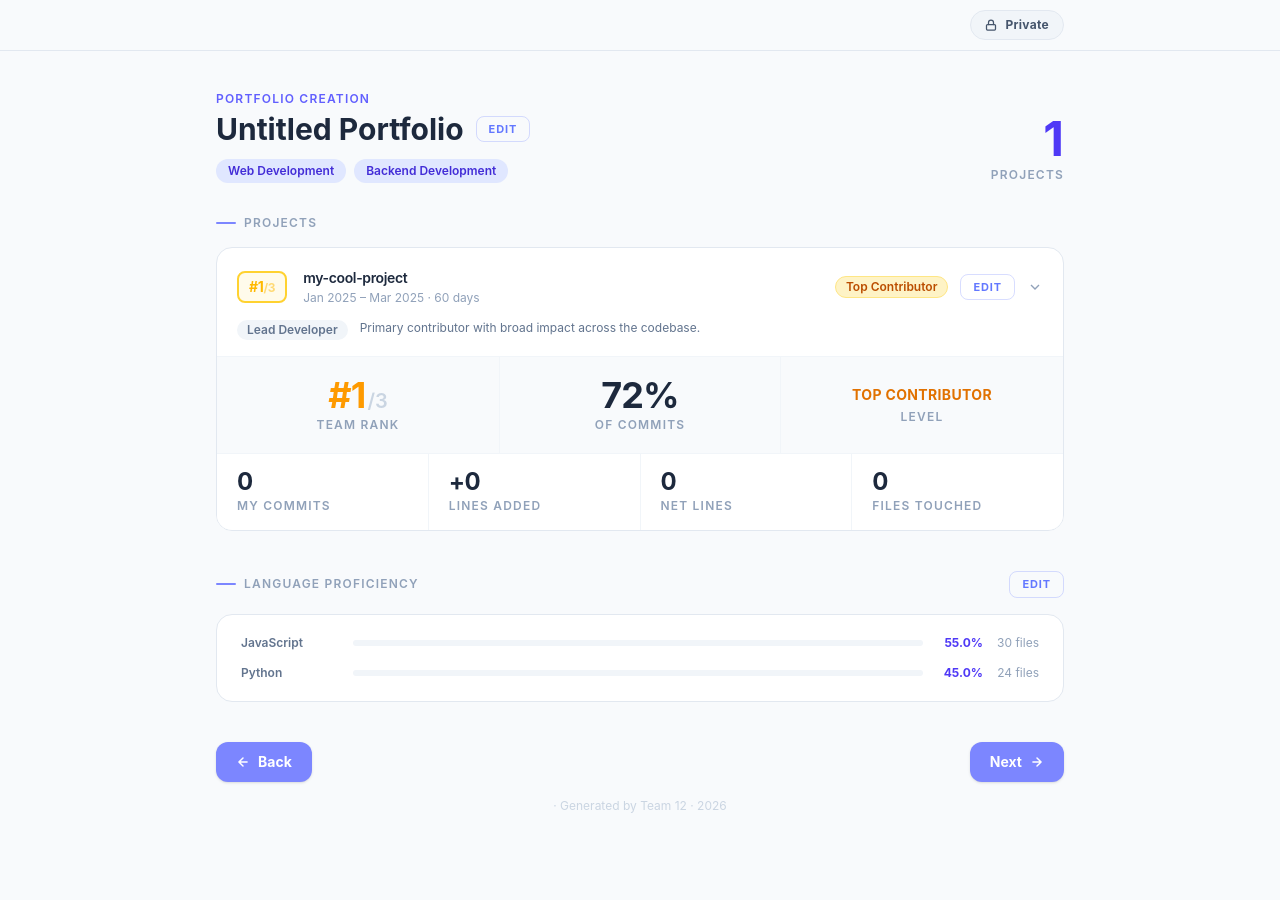
Scenario: Portfolio — edit languages › discards changes on cancel
Expected: the heading "Untitled Portfolio" is shown, x1=216 y1=111 x2=464 y2=147
Click the button with aria-label "Edit languages": click(1037, 584) x1=1009 y1=571 x2=1064 y2=598
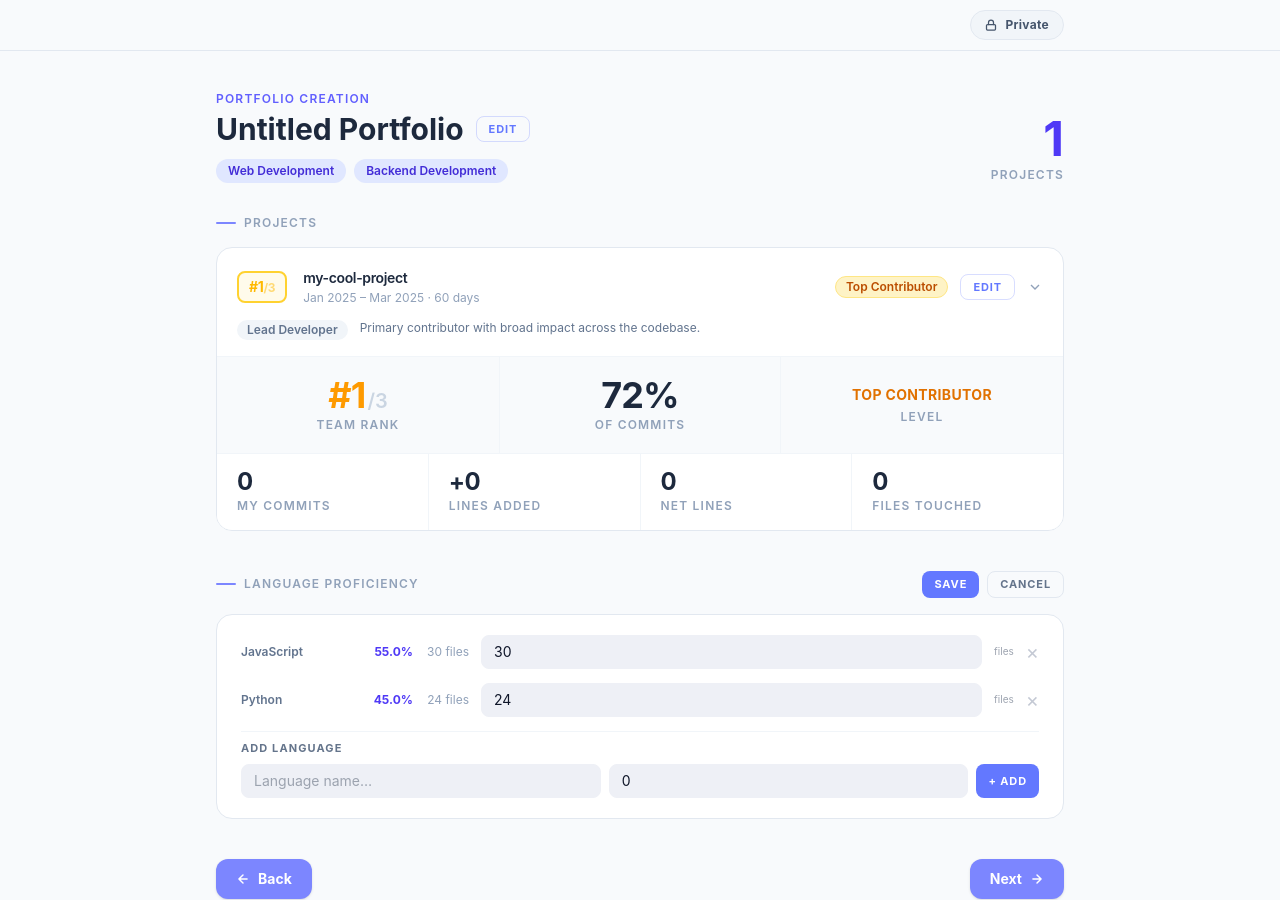
Click the button "×" in the row of "30": click(1032, 652) x1=1026 y1=642 x2=1039 y2=662
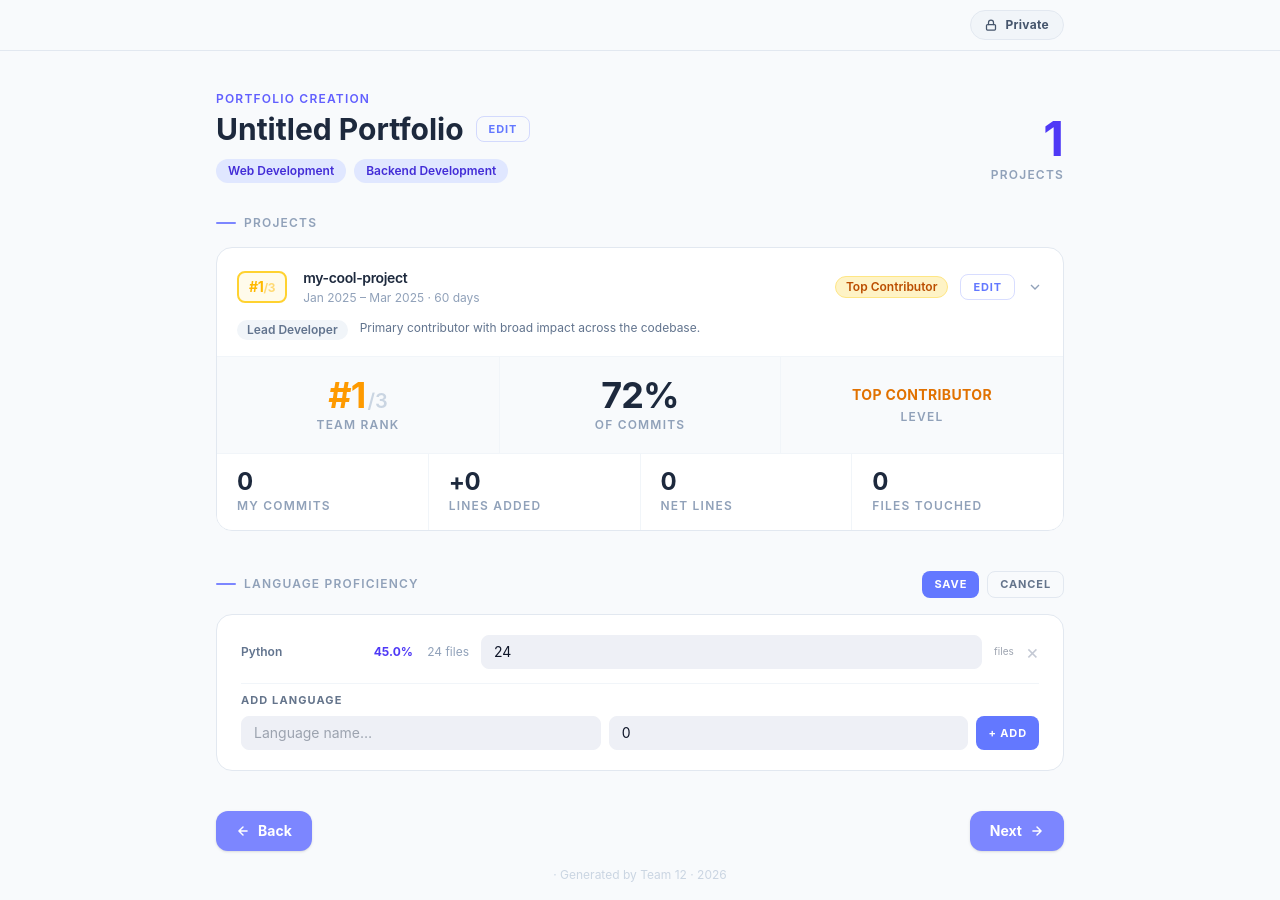
Click the button with aria-label "Cancel languages": click(1026, 584) x1=987 y1=571 x2=1064 y2=598
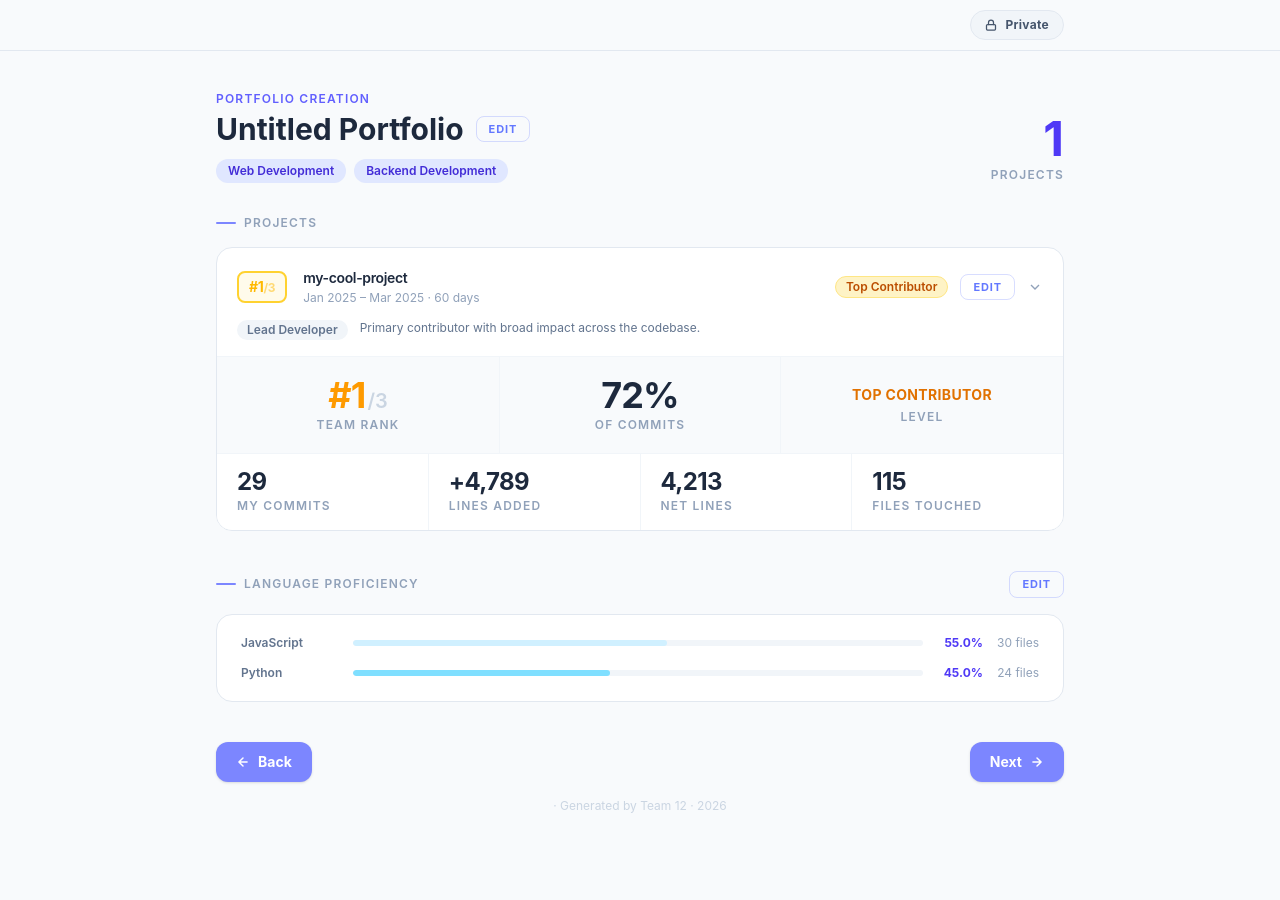
Expected: the text "JavaScript" is shown, x1=241 y1=634 x2=303 y2=650
